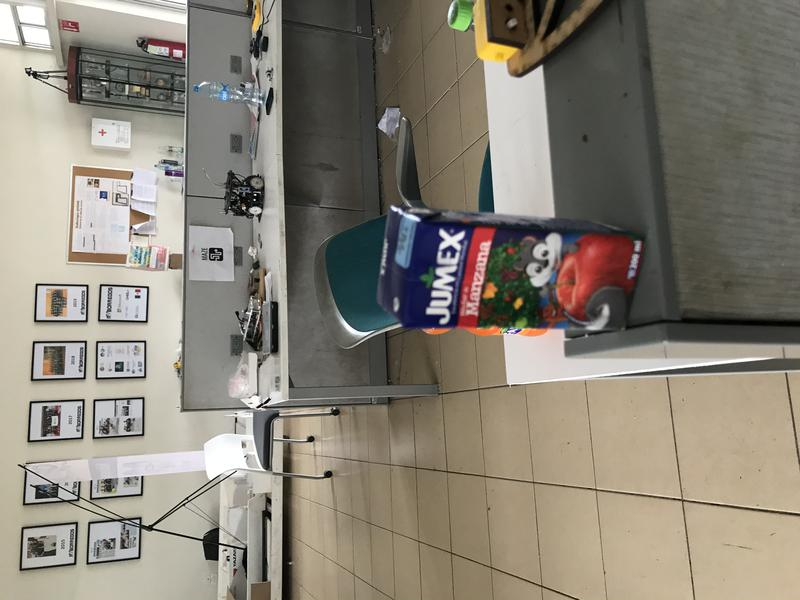fanta: (418, 325, 550, 338)
jumex_cajita: (374, 203, 643, 328)
